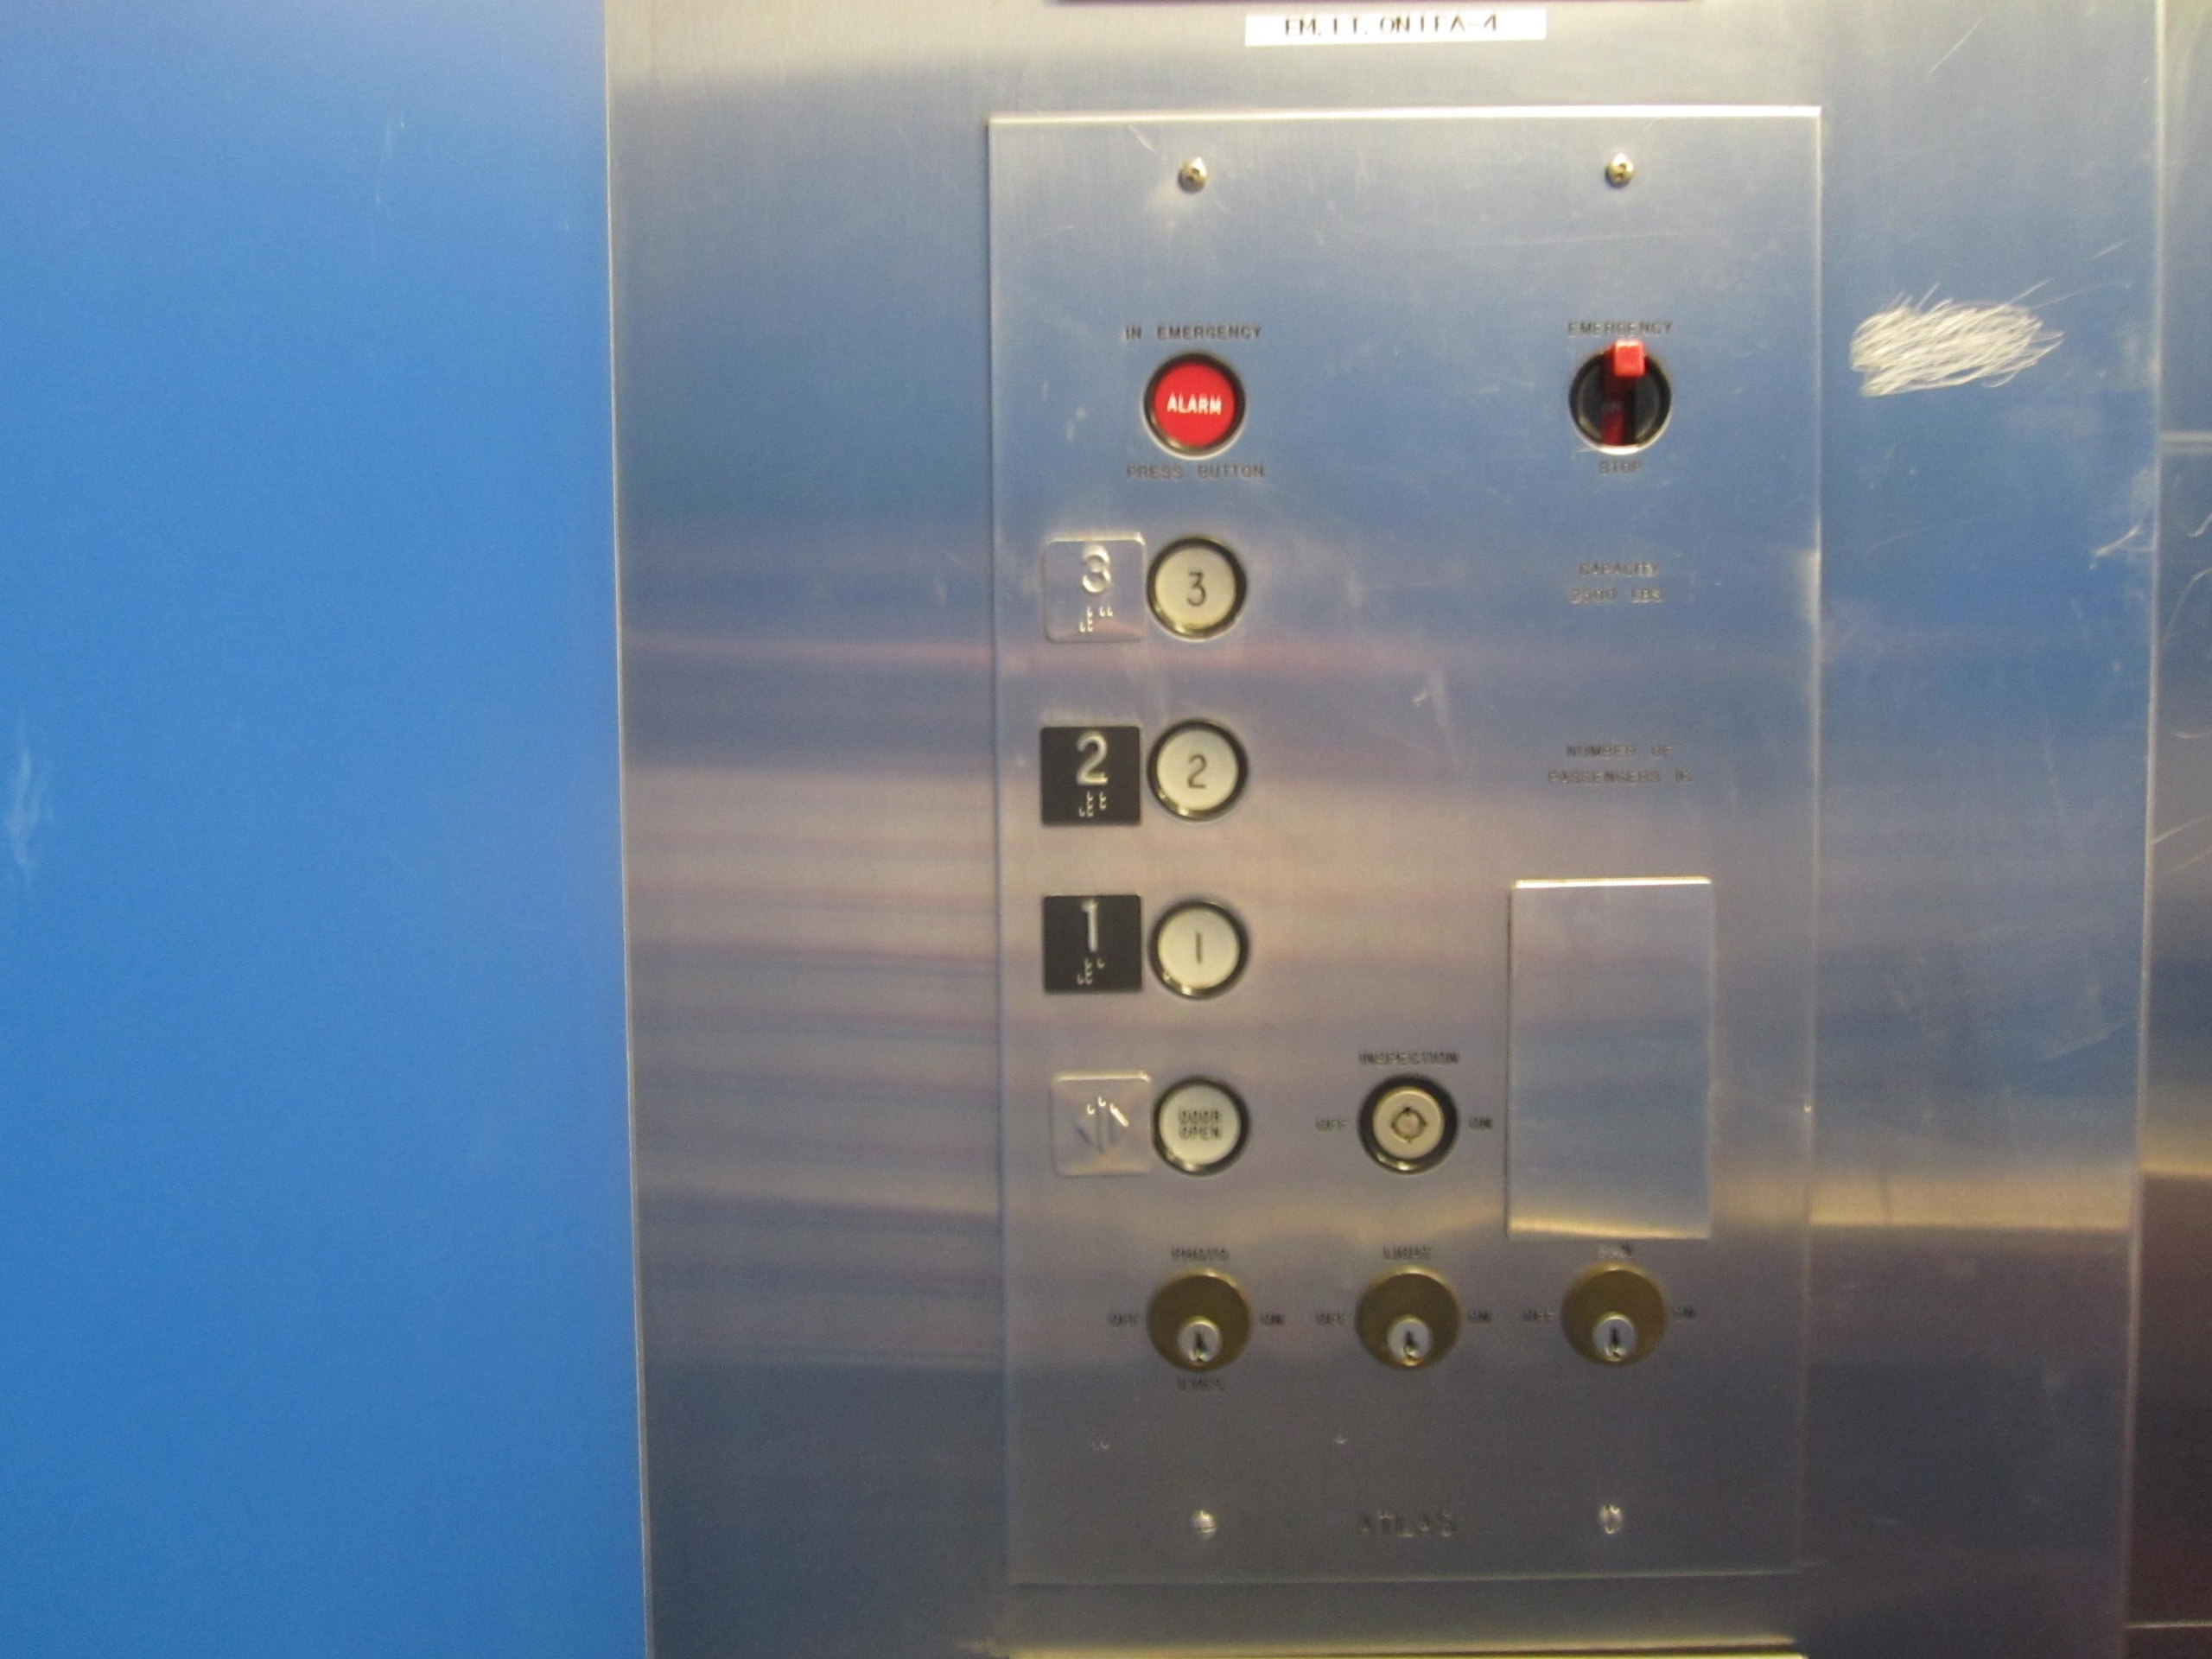1: (1143, 890, 1252, 1002), (1035, 892, 1148, 999)
2: (1143, 716, 1252, 829), (1035, 721, 1141, 833)
3: (1029, 530, 1150, 648), (1143, 532, 1252, 645)
keyhole: (1559, 1263, 1670, 1371), (1355, 1265, 1460, 1378), (1144, 1269, 1254, 1375), (1355, 1075, 1454, 1171)
open: (1047, 1070, 1153, 1175)
text_alarm: (1139, 350, 1252, 464)
unknown: (1557, 328, 1679, 464), (1150, 1073, 1252, 1180)
